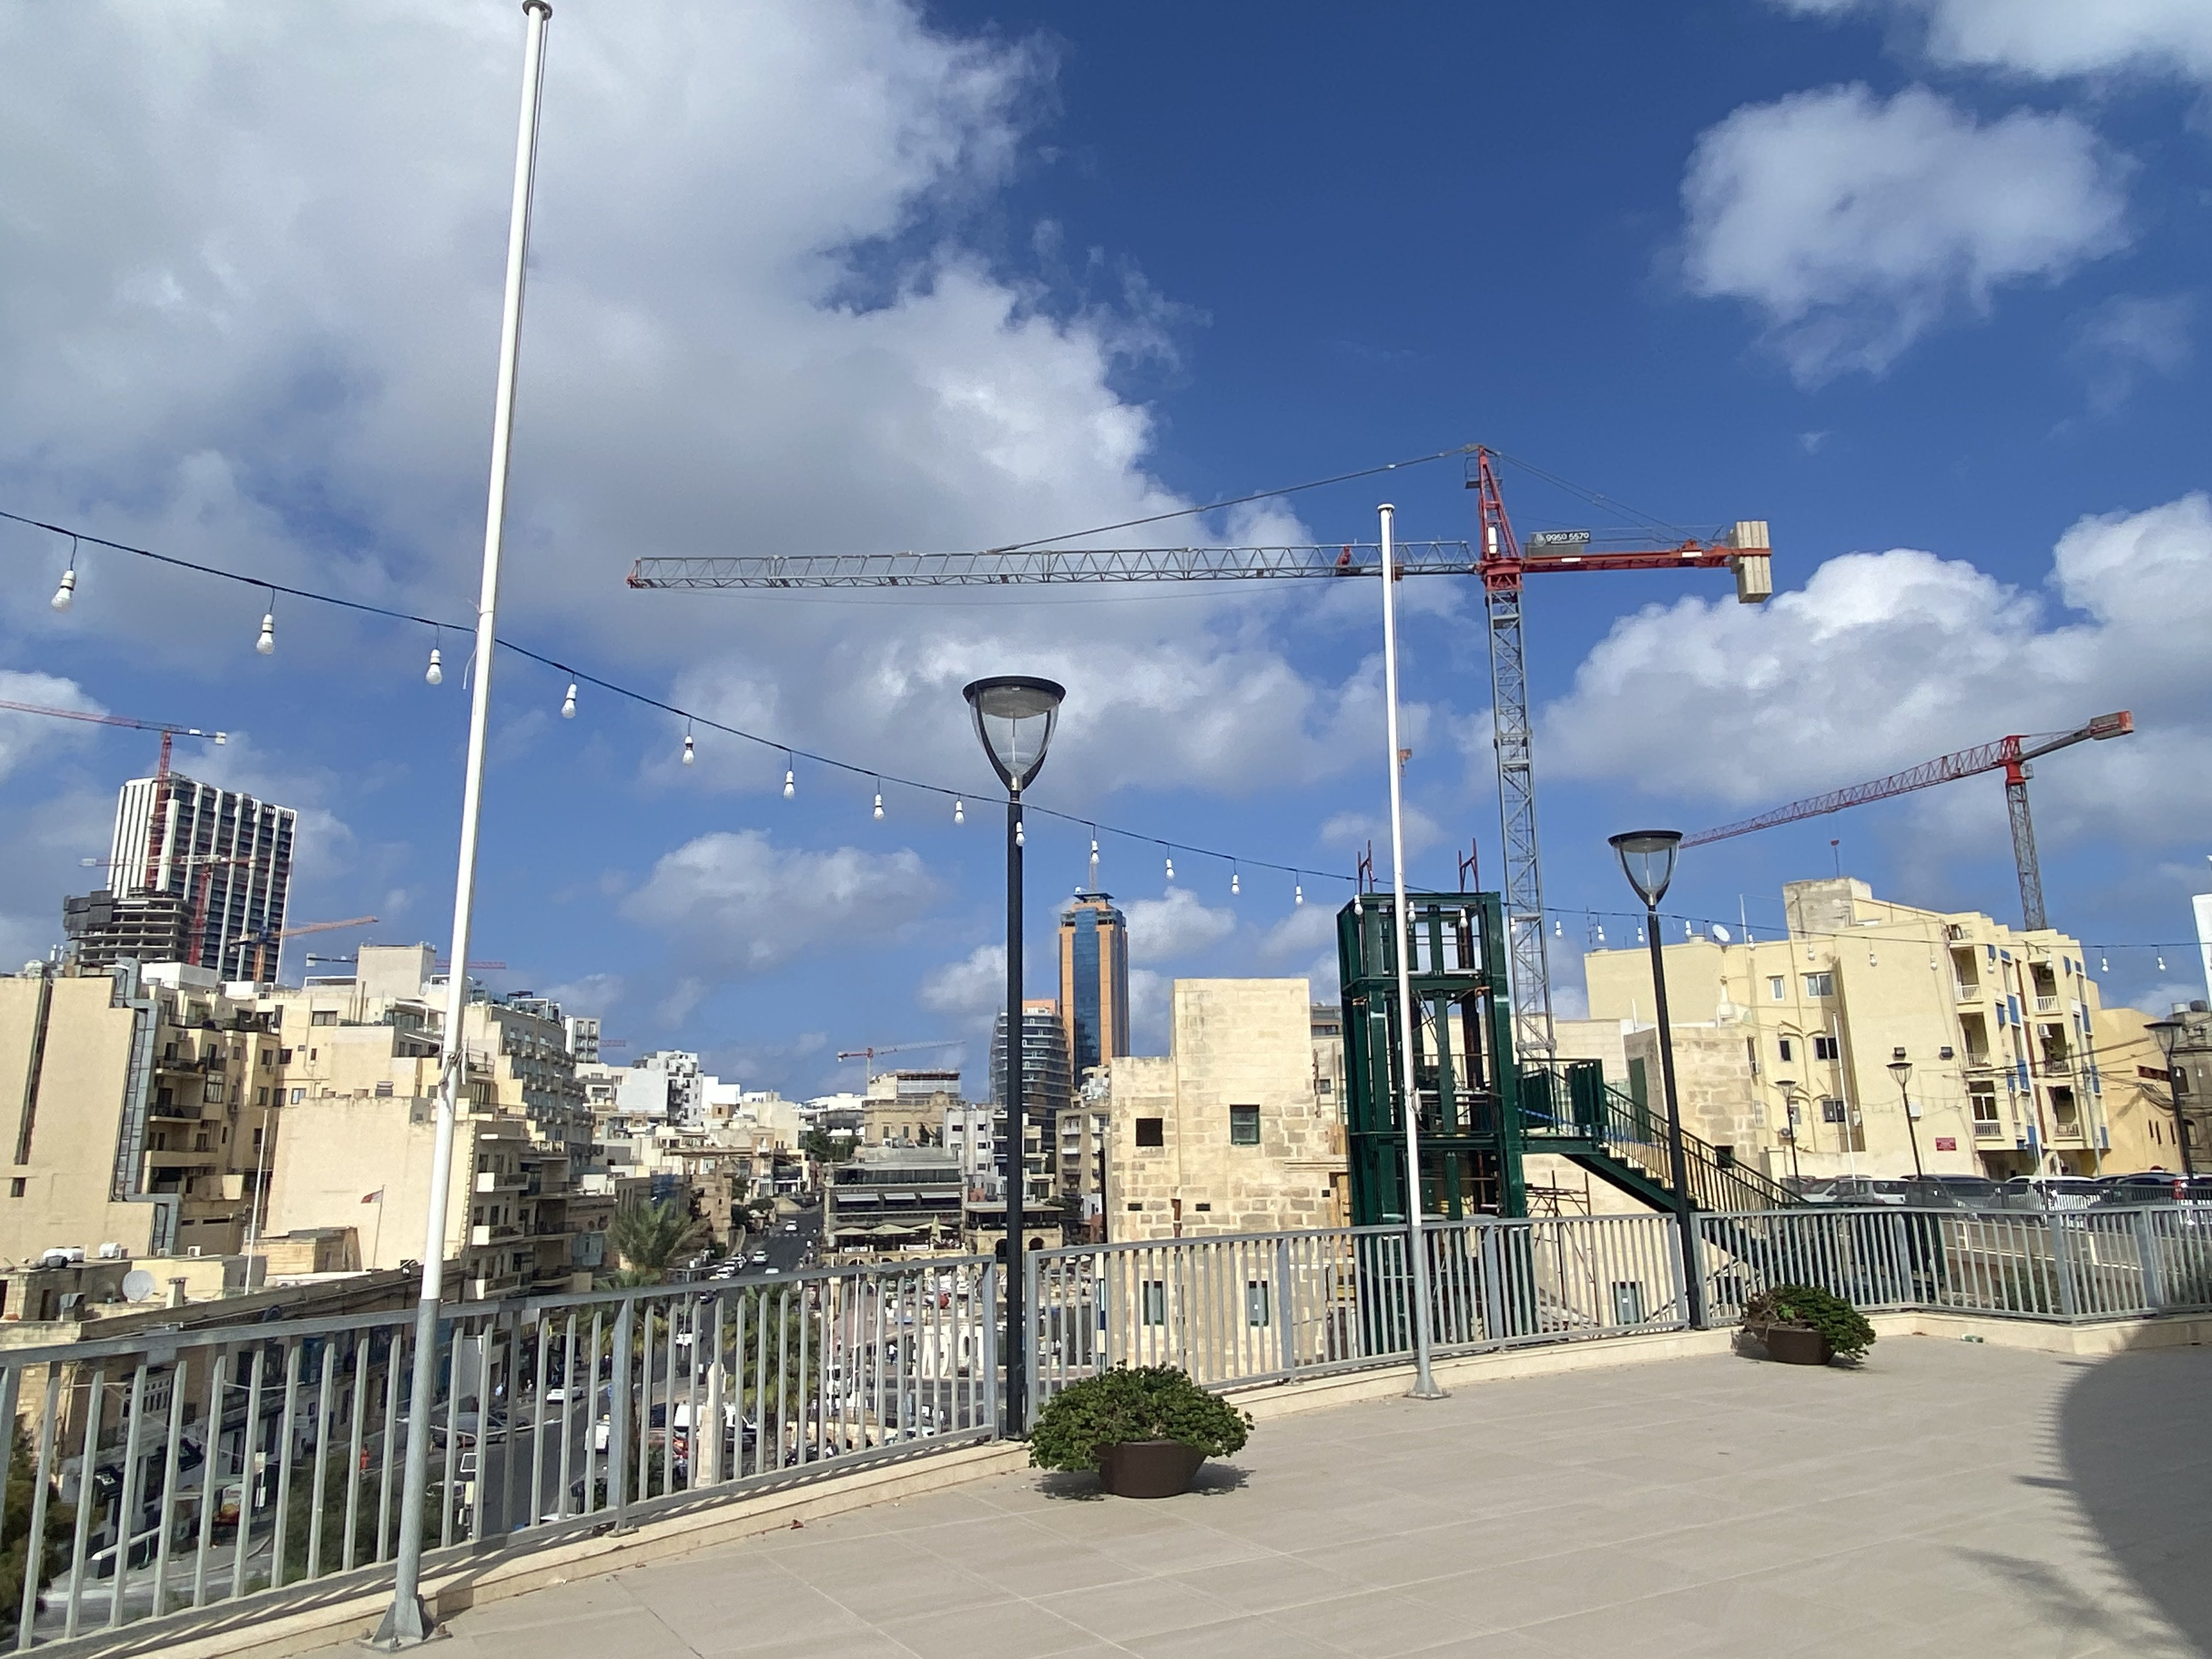crane: (581, 447, 1845, 665), (1680, 673, 2195, 862)
